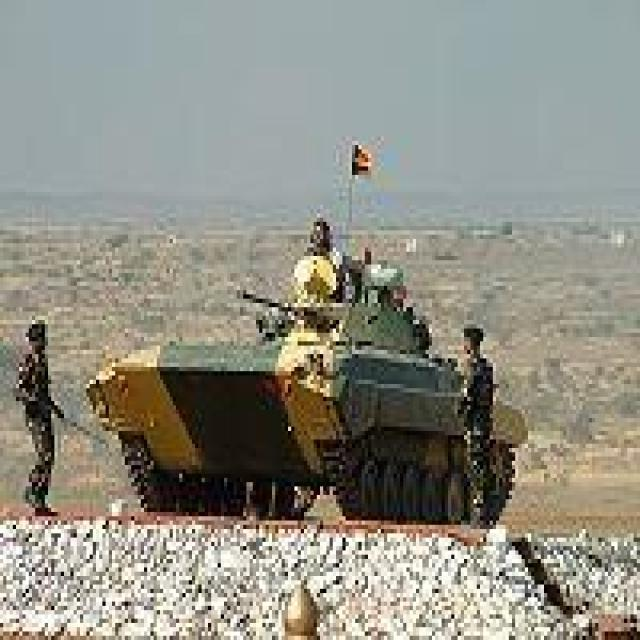Tanks: (91, 244, 523, 534)
